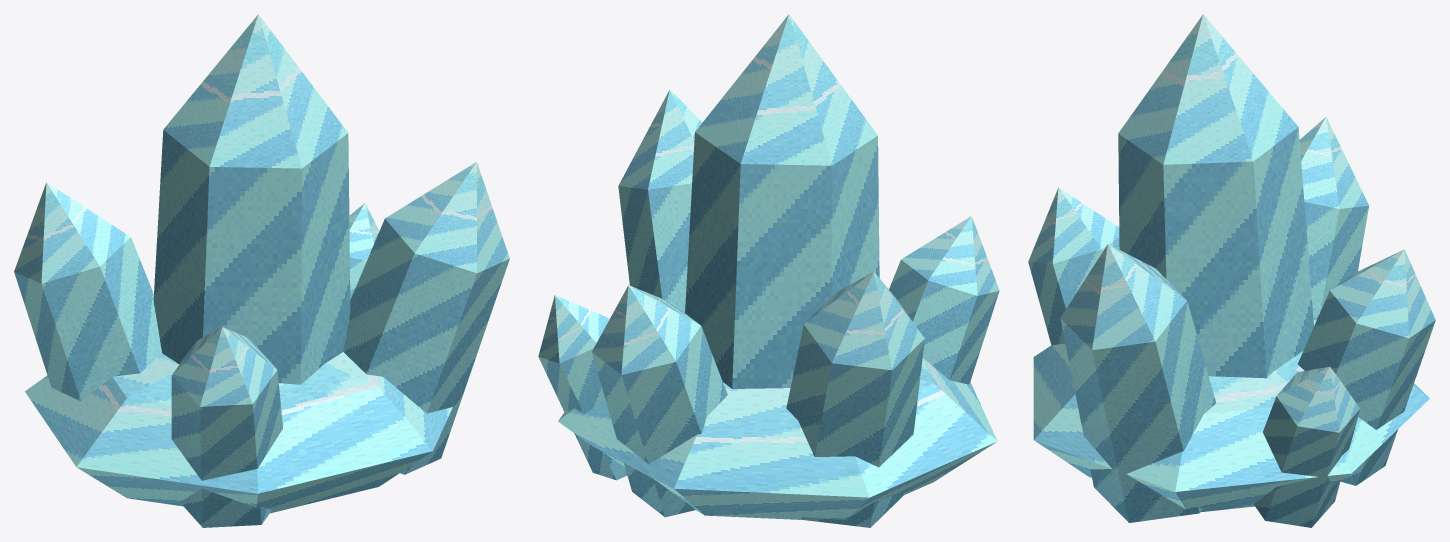
Rendered from cristal_de_gelo.glb.
3 views of the same model, side by side, from view 1: azimuth 30°, elevation 25°; view 2: azimuth 150°, elevation 25°; view 3: azimuth 270°, elevation 25° (orthographic). The views are drawn at different scales.
Visible parts, largest first — view 1: cristal_de_gelo; view 2: cristal_de_gelo; view 3: cristal_de_gelo.
Boxes of the visible parts, x1=… form: cristal_de_gelo: x1=14, y1=14, x2=509, y2=527; cristal_de_gelo: x1=538, y1=14, x2=999, y2=527; cristal_de_gelo: x1=1028, y1=14, x2=1435, y2=527.
Size of the model in its own units: 0.8816 by 0.9964 by 0.8114.
1 material, 1 textured.
